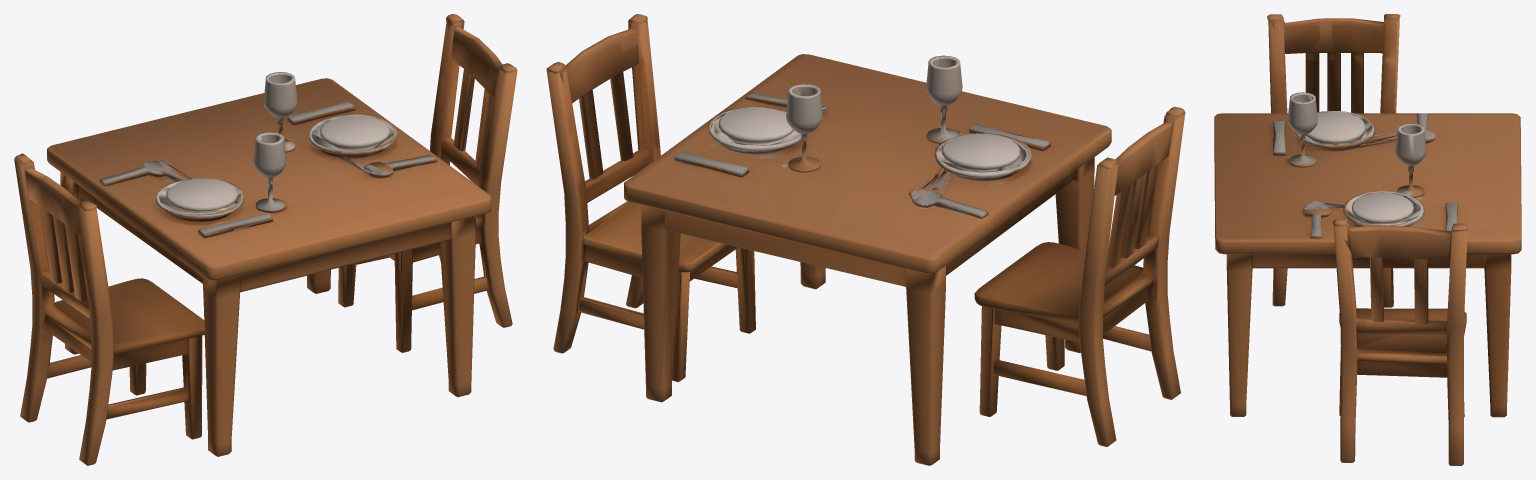
The model's file is DinnerTable2.glb.
3 views of the same model, side by side, from view 1: azimuth 30°, elevation 25°; view 2: azimuth 150°, elevation 25°; view 3: azimuth 270°, elevation 25° (orthographic). The views are drawn at different scales.
Visible parts, largest first — view 1: DinnerTable2; view 2: DinnerTable2; view 3: DinnerTable2.
Part boxes in pixels (x1,y1,x2,y2): DinnerTable2: [14, 14, 517, 465]; DinnerTable2: [546, 14, 1185, 465]; DinnerTable2: [1214, 14, 1521, 465].
Size of the model in its own units: 1.9 by 1.01 by 1.14.
1 material, 1 textured.
